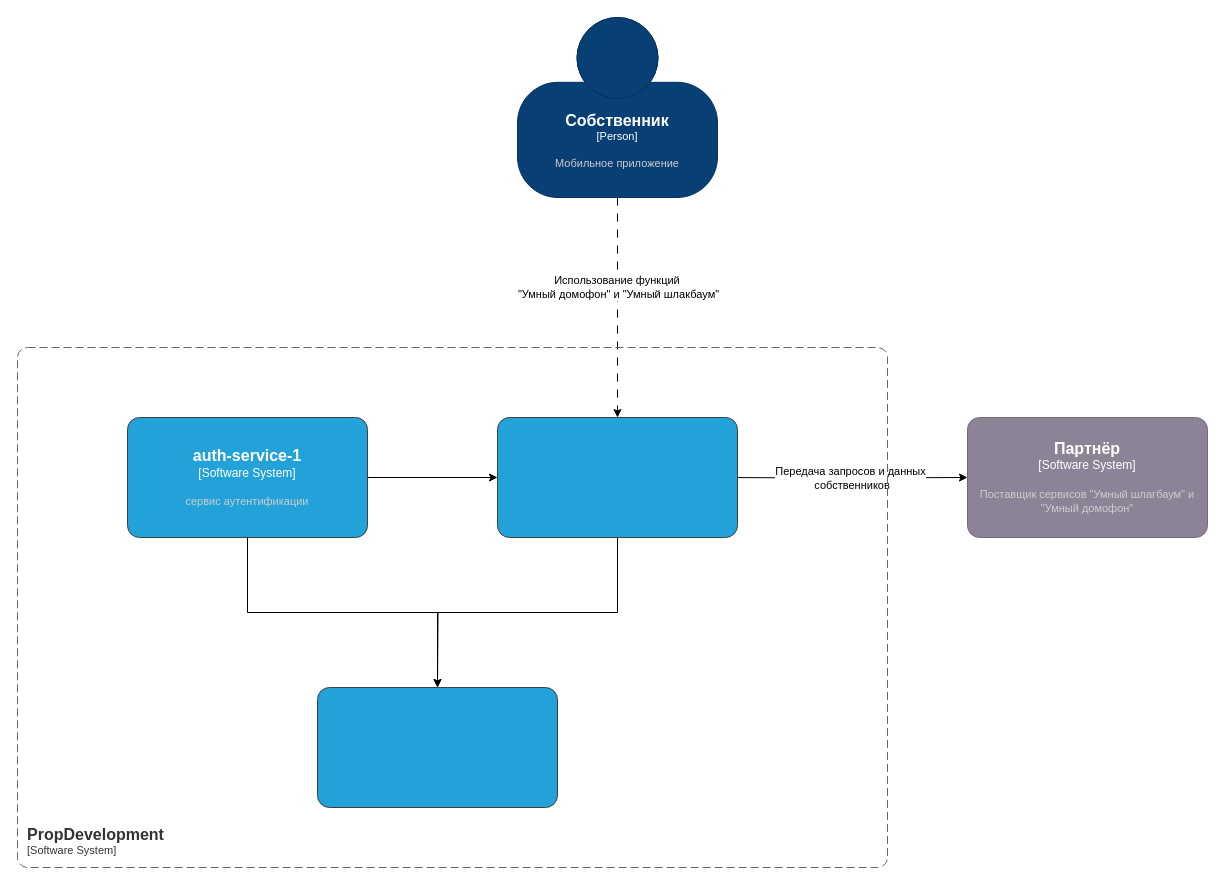
This 1225x885 diagram has some shape labels left out. The shapes that lost their labels are listed below. From the top down, each one's box as (x1, y1, x2, y2) in pixels, then its label:
(496, 416, 738, 538): Группа сервисов ЖКУ [Software System]
(316, 686, 558, 808): SIEM [Software System] сервис управления ИБ и событиями безопасности
